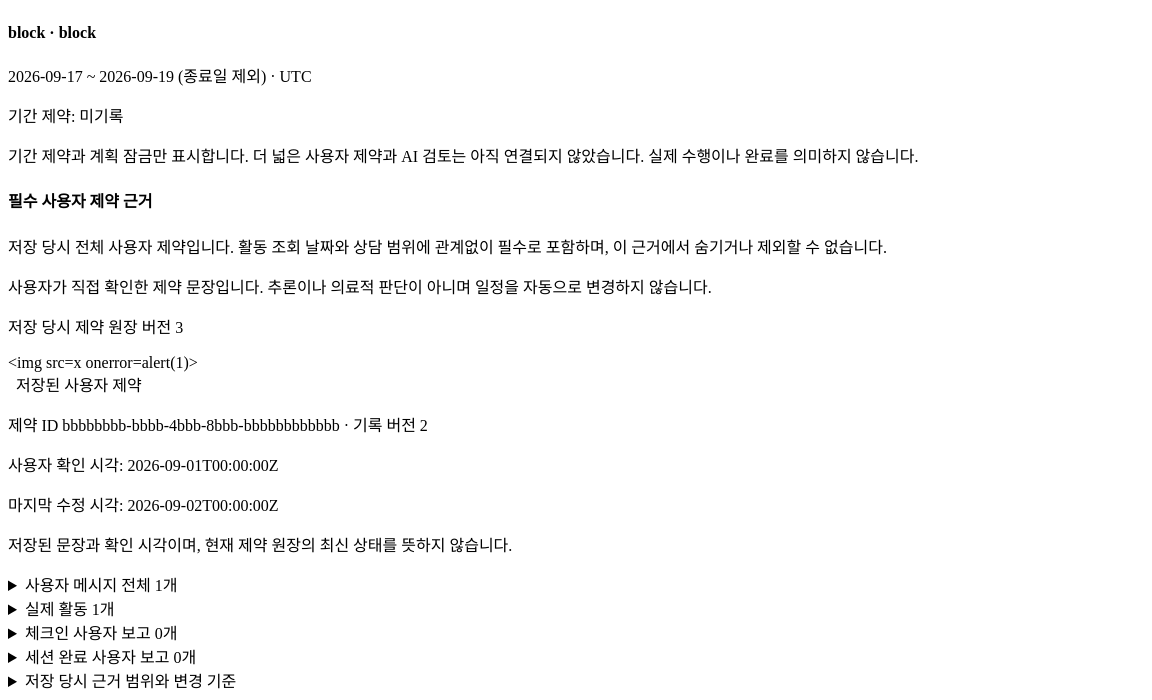
frozen evidence view › shows every v2 constraint outside collapsed evidence groups and date/scope filters with frozen provenance
(page scrolled)
Expected: the element "필수 사용자 제약 근거" shows "저장 당시 제약 원장 버전 3", top-left (8, 193), bottom-right (887, 554)
Expected: the element "필수 사용자 제약 근거" shows "사용자 확인 시각: 2026-09-01T00:00:00Z", top-left (8, 193), bottom-right (887, 554)
What coordinates should you click on to do the following:
click the heading "저장 당시 근거 범위와 변경 기준"
I would click on:
 (131, 681)
Its box is top-left (25, 672), bottom-right (236, 690).
(page scrolled)
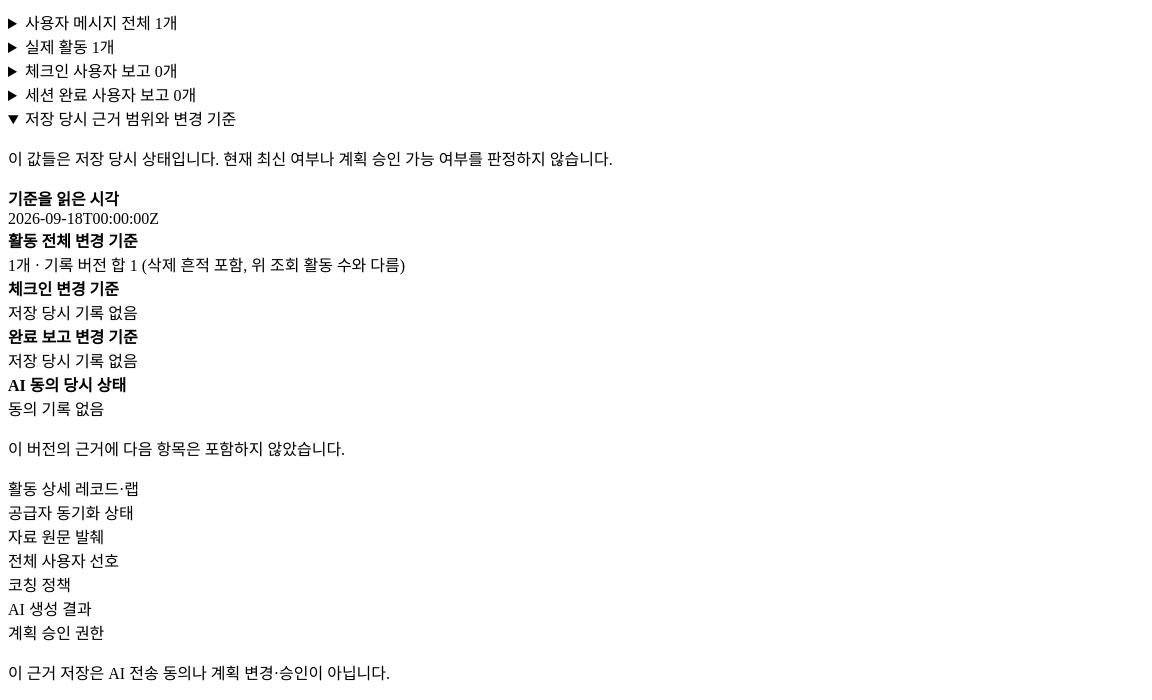
Expected: the text "전체 사용자 제약" is not shown
Now the list item "전체 사용자 선호" is shown, box top-left (8, 552), bottom-right (119, 570)
